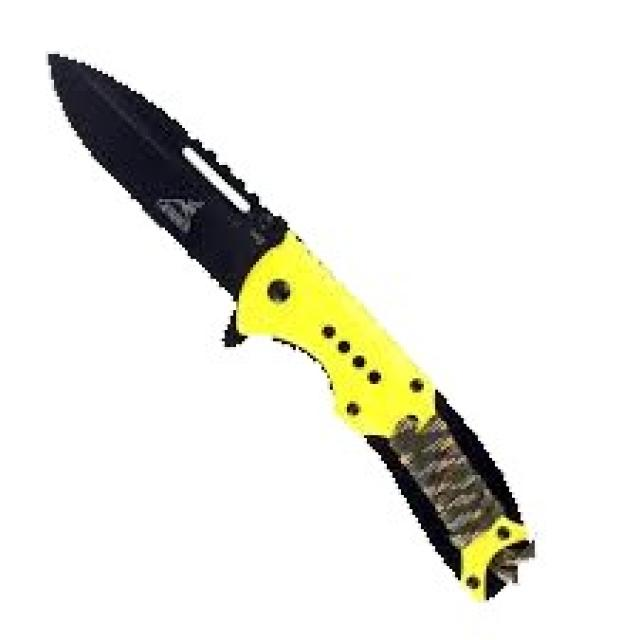knife: (42, 48, 540, 603)
